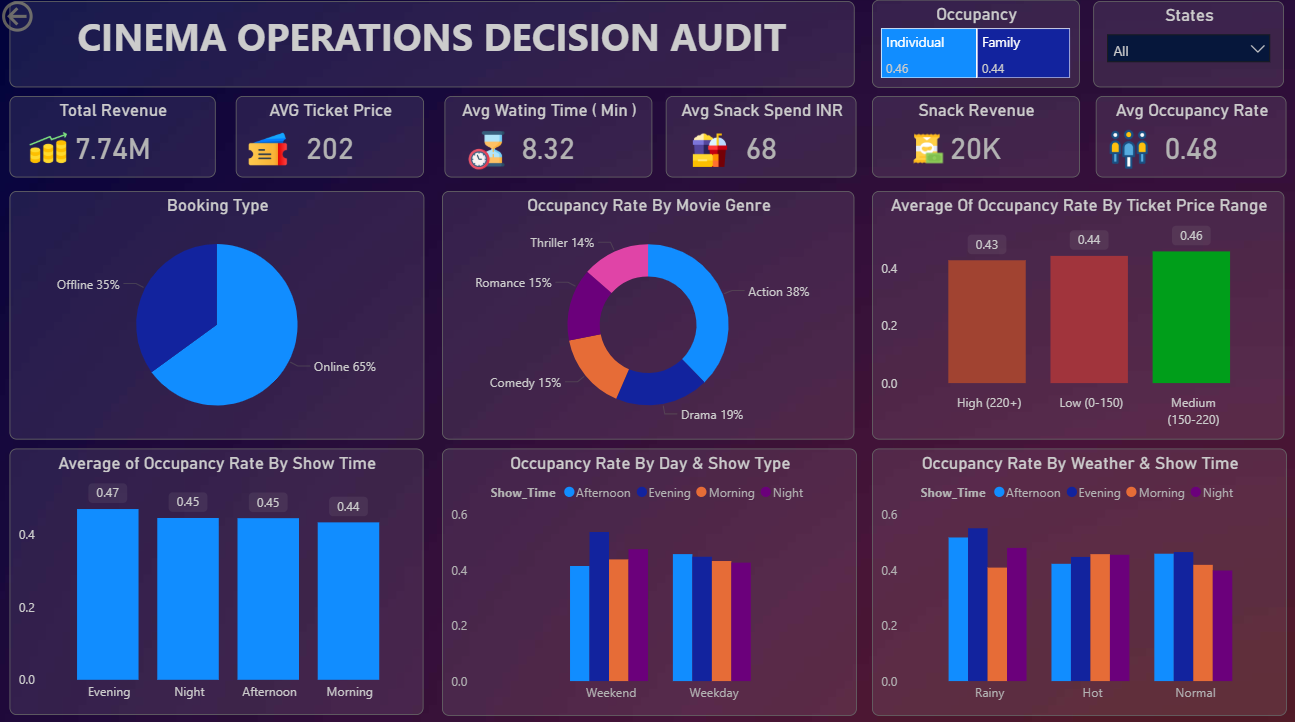

What the dashboard file says about the page in this screenshot:
{"tool":"powerbi","page":{"name":"Page 1","canvas":[1280,720],"ordinal":0},"visuals":[{"type":"lineClusteredColumnComboChart","title":"Occupancy Rate By Day & Show Type","fields":{"Category":["Cinema operations decision audit.Day_Type"],"Y":["Avg(Cinema operations decision audit.Occupancy_Rate)"],"Series":["Cinema operations decision audit.Show_Time"]},"box":[436.2,443.8,407.5,262.5],"z":0},{"type":"columnChart","title":"Average Of Occupancy Rate By Ticket Price Range","fields":{"Category":["Cinema operations decision audit.Ticket_Price_Range"],"Y":["Avg(Cinema operations decision audit.Occupancy_Rate)"]},"box":[858.8,191.2,405,243.8],"z":1000},{"type":"slicer","title":"States","fields":{"Values":["Cinema operations decision audit.State"]},"box":[1076.2,5,187.5,85],"z":2000},{"type":"card","title":"Total Revenue","fields":{"Values":["Sum(Cinema operations decision audit.Total_Revenue)"]},"box":[12.5,98.8,202.5,80],"z":3000},{"type":"card","title":"AVG Ticket Price","fields":{"Values":["Avg(Cinema operations decision audit.Ticket_Price_INR)"]},"box":[233.8,98.8,185,80],"z":4000},{"type":"card","title":"Avg Wating Time ( Min )","fields":{"Values":["Avg(Cinema operations decision audit.Queue_Time_Minutes)"]},"box":[438.8,98.8,203.8,80],"z":5000},{"type":"card","title":"Avg Snack Spend","fields":{"Values":["Cinema operations decision audit.Avg Snack Revenue per Booking"]},"box":[656.2,98.8,187.5,80],"z":6000},{"type":"card","title":"Avg Revenue PerSeat","fields":{"Values":["Avg(Cinema operations decision audit.Revenue_per_Seat)"]},"box":[858.8,98.8,203.8,80],"z":7000},{"type":"actionButton","box":[0,0,100,40],"z":8000},{"type":"textbox","box":[12.5,5,828.8,85],"z":9000},{"type":"card","title":"Avg Occupancy Rate","fields":{"Values":["Cinema operations decision audit.Occupancy Rate %"]},"box":[1078.8,98.8,187.5,80],"z":10000},{"type":"columnChart","title":"Average of Occupancy Rate By Show Time","fields":{"Category":["Cinema operations decision audit.Show_Time"],"Y":["Avg(Cinema operations decision audit.Occupancy_Rate)"]},"box":[12.5,443.8,406.2,261.2],"z":11000},{"type":"lineClusteredColumnComboChart","title":" Occupancy Rate By Weather & Show Time","fields":{"Category":["Cinema operations decision audit.Weather"],"Y":["Avg(Cinema operations decision audit.Occupancy_Rate)"],"Series":["Cinema operations decision audit.Show_Time"]},"box":[858.8,443.8,407.5,262.5],"z":12000},{"type":"pieChart","title":" Booking Type","fields":{"Category":["Cinema operations decision audit.Booking Type"],"Y":["CountNonNull(Cinema operations decision audit.Booking Type)"]},"box":[12.5,191.2,407.5,243.8],"z":13000},{"type":"donutChart","title":"Occupancy Rate By Movie Genre","fields":{"Category":["Cinema operations decision audit.Movie_Genre"],"Y":["Sum(Cinema operations decision audit.Occupancy_Rate)"]},"box":[436.2,191.2,405,243.8],"z":14000},{"type":"treemap","title":"Occupancy","fields":{"Group":["Cinema operations decision audit.Customer_Type"],"Values":["Avg(Cinema operations decision audit.Occupancy_Rate)"]},"box":[858.8,3.8,203.8,86.2],"z":15000}]}

Visuals, with their boxes in screenshot pixels (x1, y1, x2, y2), scaled from the page's 1280x720 canvas onto the 1295x722 screenshot:
"Occupancy Rate By Day & Show Type" lineClusteredColumnComboChart: crop(441, 445, 854, 708)
"Average Of Occupancy Rate By Ticket Price Range" columnChart: crop(869, 192, 1279, 436)
"States" slicer: crop(1089, 5, 1279, 90)
"Total Revenue" card: crop(13, 99, 218, 179)
"AVG Ticket Price" card: crop(237, 99, 424, 179)
"Avg Wating Time ( Min )" card: crop(444, 99, 650, 179)
"Avg Snack Spend" card: crop(664, 99, 854, 179)
"Avg Revenue PerSeat" card: crop(869, 99, 1075, 179)
actionButton: crop(0, 0, 101, 40)
textbox: crop(13, 5, 851, 90)
"Avg Occupancy Rate" card: crop(1091, 99, 1281, 179)
"Average of Occupancy Rate By Show Time" columnChart: crop(13, 445, 424, 707)
" Occupancy Rate By Weather & Show Time" lineClusteredColumnComboChart: crop(869, 445, 1281, 708)
" Booking Type" pieChart: crop(13, 192, 425, 436)
"Occupancy Rate By Movie Genre" donutChart: crop(441, 192, 851, 436)
"Occupancy" treemap: crop(869, 4, 1075, 90)
